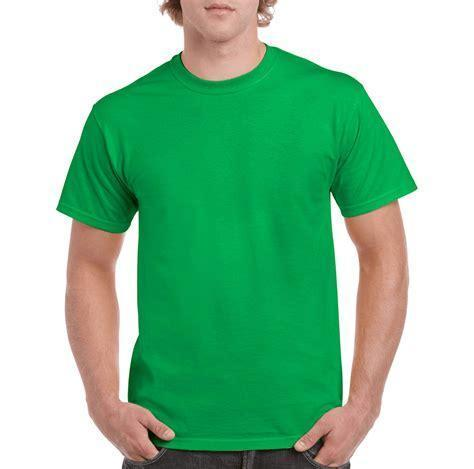Tshirt: (56, 43, 417, 454)
